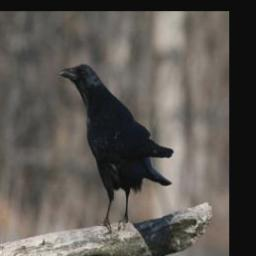Crow: (59, 60, 174, 236)
